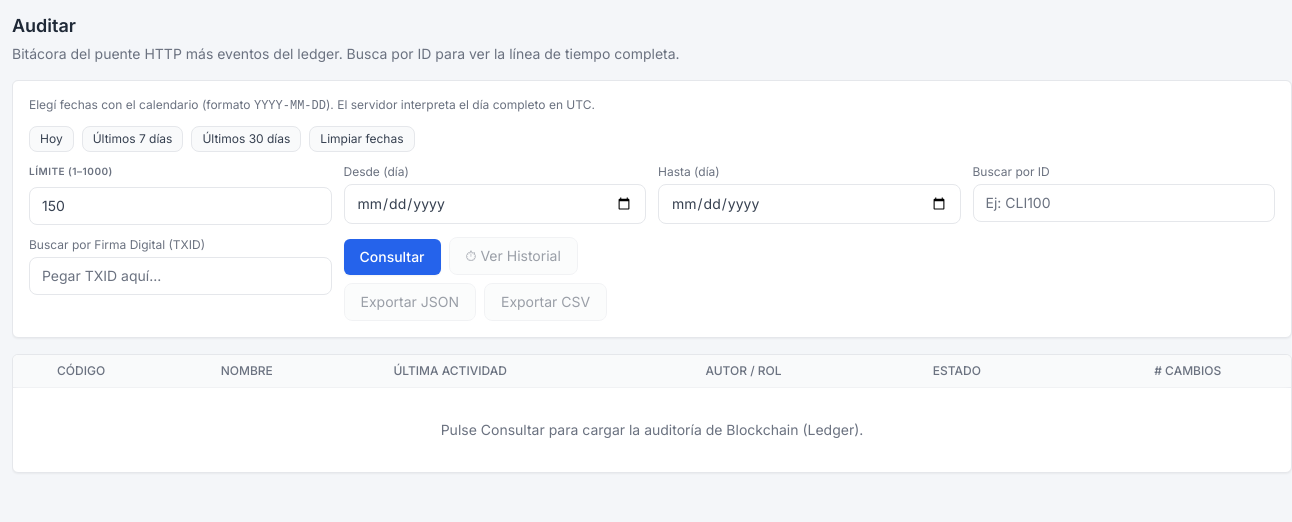
AuditarPage › consulta auditoría y renderiza resumen de resultados
Click the button "Consultar": [392, 257] box [344,239,440,275]
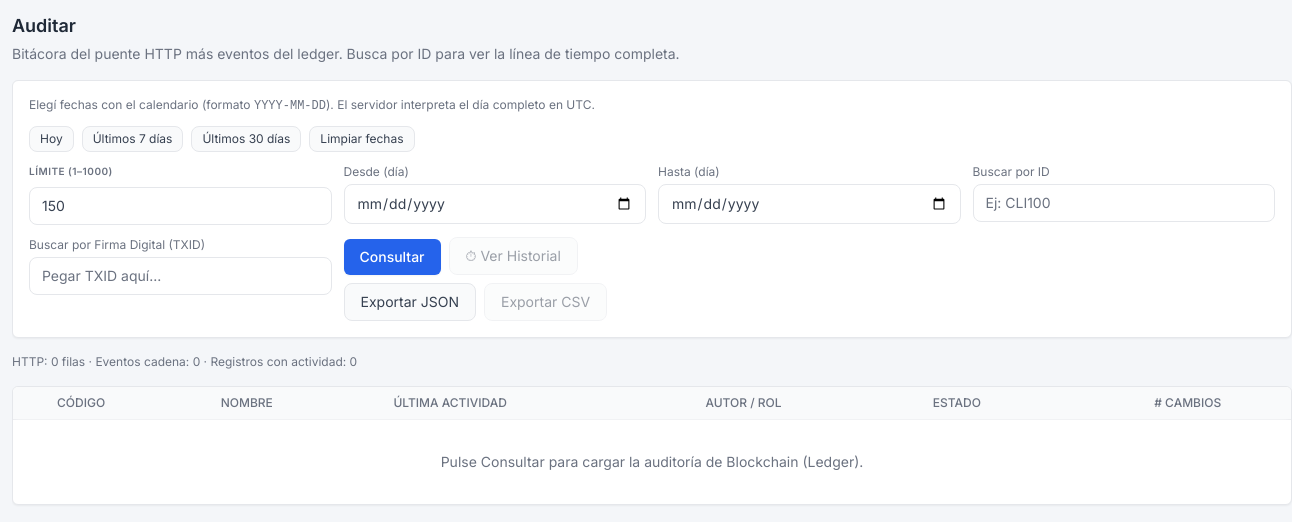
Check: the text "HTTP: 0 filas" is shown, box [12,354,357,369]
